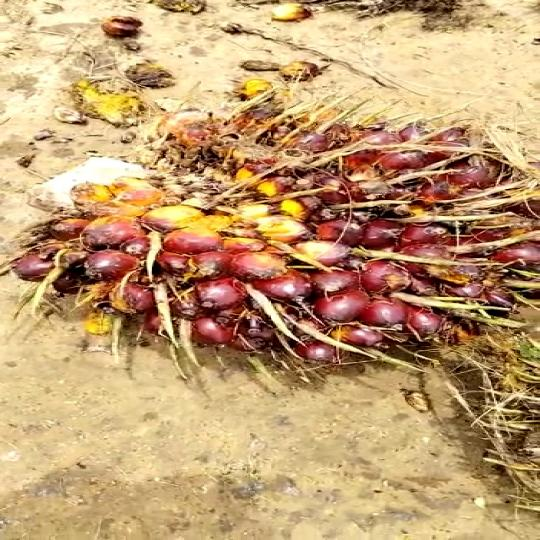masak: (13, 105, 540, 376)
